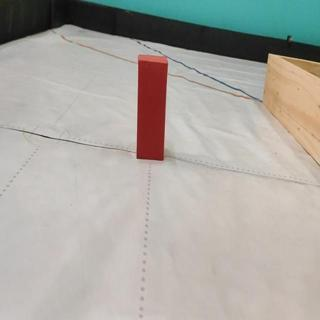redbox: (137, 53, 168, 161)
